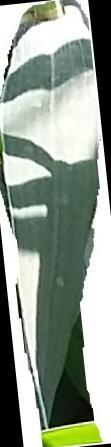Wheat: (43, 160, 98, 348)
